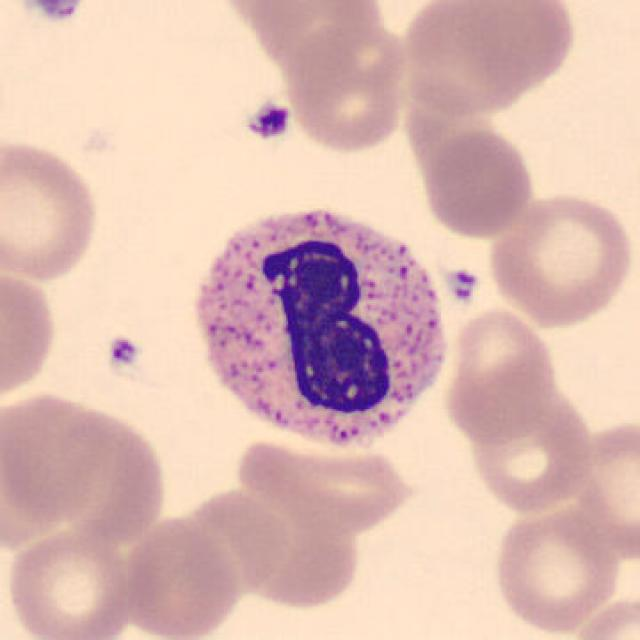Neutrophil: (181, 198, 457, 466)
Platelets: (244, 97, 294, 143), (103, 332, 144, 376), (442, 264, 483, 308), (20, 0, 90, 25)
RBC: (484, 188, 634, 329), (393, 0, 576, 115), (187, 492, 375, 602), (235, 435, 423, 538), (489, 501, 626, 636), (1, 386, 116, 545), (281, 18, 412, 155), (466, 382, 596, 516), (441, 304, 560, 444), (119, 511, 244, 640), (2, 522, 135, 640), (0, 134, 103, 286), (56, 415, 170, 548), (419, 125, 537, 240), (569, 414, 640, 564), (0, 262, 60, 407), (569, 590, 640, 640)
